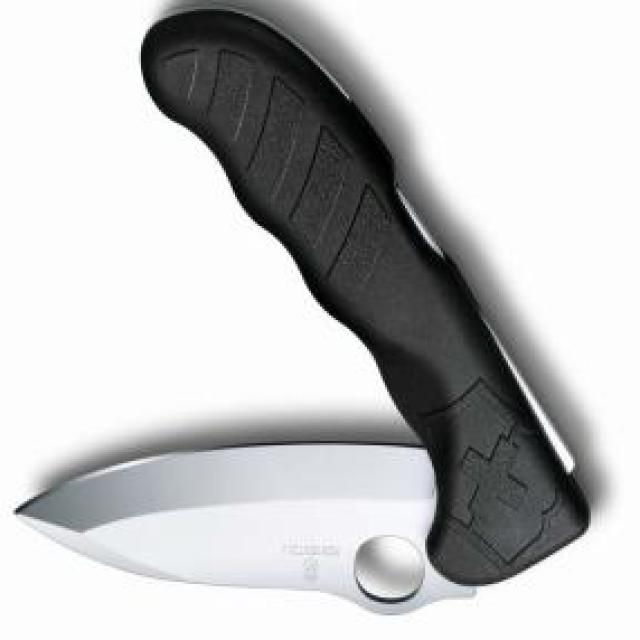knife: (0, 434, 443, 616)
